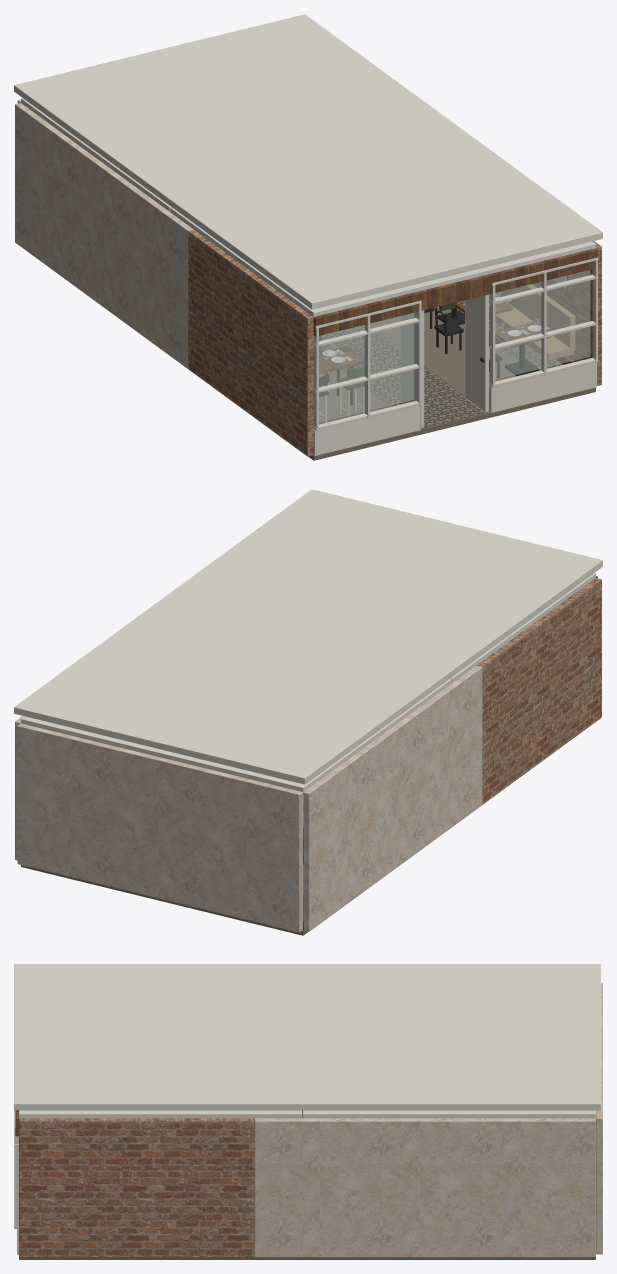
Rendered from pasta-bar.glb.
3 views of the same model, one above another, from view 1: azimuth 30°, elevation 25°; view 2: azimuth 150°, elevation 25°; view 3: azimuth 270°, elevation 25° (orthographic).
Parts seen in each view (by area): view 1: pasta-bar cream, pasta-bar plaster, pasta-bar brick, pasta-bar glass, pasta-bar wood, pasta-bar concrete, pasta-bar floor, pasta-bar leather, pasta-bar black; view 2: pasta-bar cream, pasta-bar plaster, pasta-bar brick, pasta-bar concrete; view 3: pasta-bar cream, pasta-bar plaster, pasta-bar brick, pasta-bar concrete.
Boxes of the visible parts, box(x1,y1,x2,y2) form: pasta-bar cream: box(14, 14, 602, 455); pasta-bar plaster: box(15, 99, 193, 368); pasta-bar brick: box(188, 229, 601, 456); pasta-bar glass: box(319, 270, 590, 422); pasta-bar wood: box(313, 248, 597, 454); pasta-bar concrete: box(308, 300, 595, 460); pasta-bar floor: box(321, 308, 562, 428); pasta-bar leather: box(489, 284, 574, 360); pasta-bar black: box(319, 302, 539, 404); pasta-bar cream: box(14, 489, 602, 894); pasta-bar plaster: box(15, 665, 482, 932); pasta-bar brick: box(477, 578, 601, 804); pasta-bar concrete: box(21, 865, 308, 935); pasta-bar cream: box(14, 964, 600, 1254); pasta-bar plaster: box(254, 982, 602, 1257); pasta-bar brick: box(19, 1118, 254, 1257); pasta-bar concrete: box(19, 1257, 595, 1259).
Size of the model in its own units: 6.68 by 3.48 by 11.74.
Materials: 20 (5 with a texture image).
